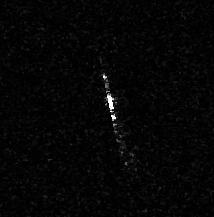ship: (101, 74, 119, 125)
